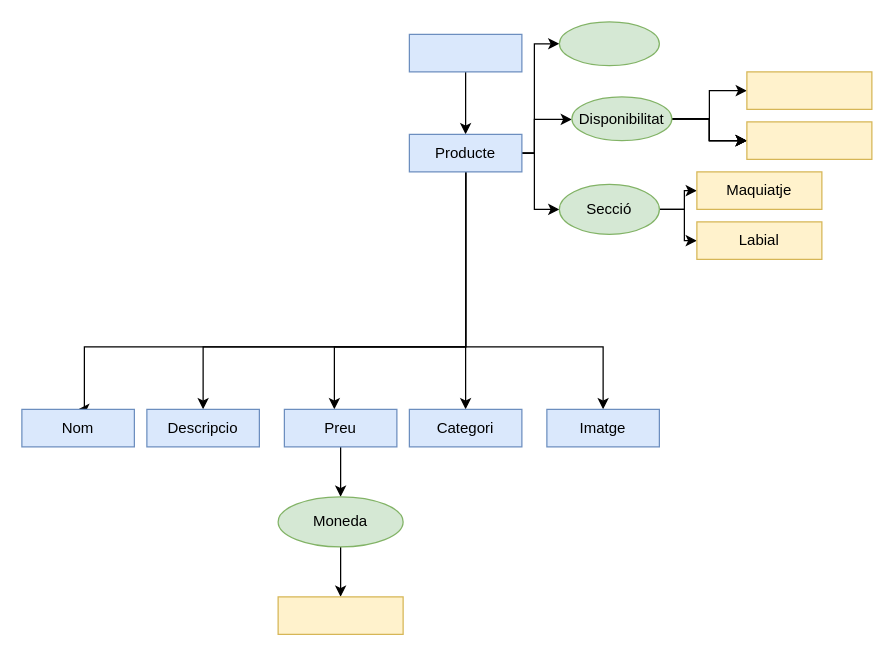
Image size: 894x656. Some labels were removed from this diagram. Each missing label, with the centre of its shape:
"Botiga" belongs at point 465,52.
"Codi" belongs at point 608,43.
"En estoc" belongs at point 809,140.
"Esgotat" belongs at point 809,90.
"EUR" belongs at point 340,615.
